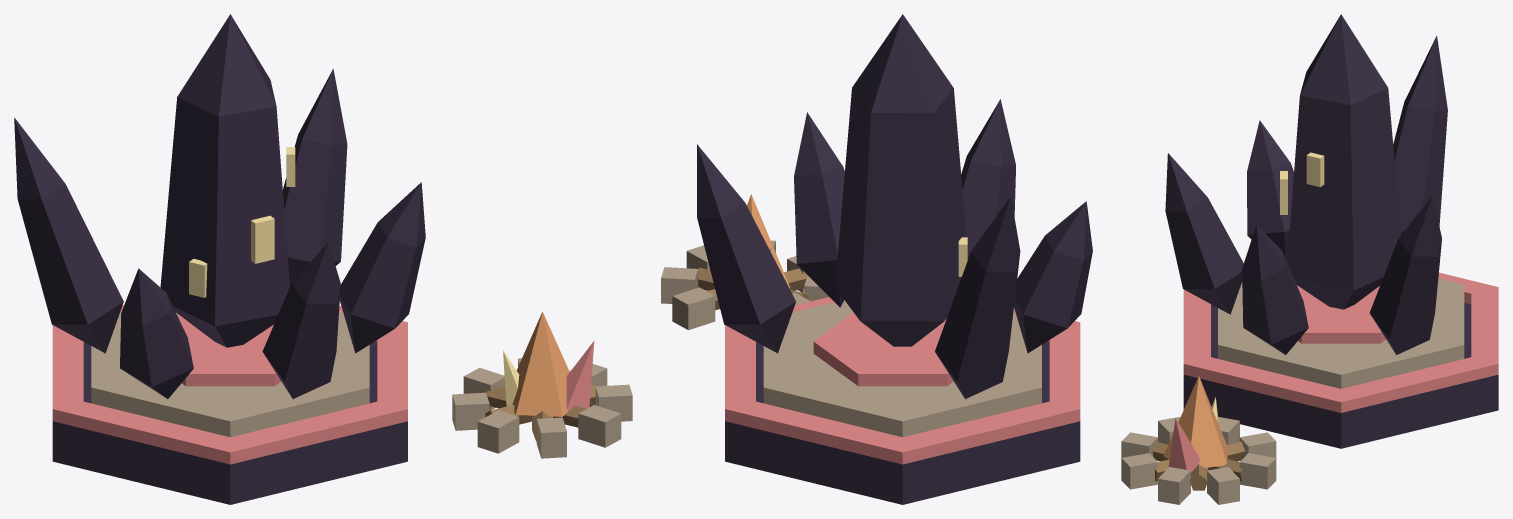
The model's file is volcanic-landmark-s2b.glb.
3 renders of one model, left to right at view 1: azimuth 30°, elevation 25°; view 2: azimuth 150°, elevation 25°; view 3: azimuth 270°, elevation 25°, orthographic. The views are drawn at different scales.
Visible parts, largest first — view 1: volcanic-landmark-s2b; view 2: volcanic-landmark-s2b; view 3: volcanic-landmark-s2b.
Boxes of the visible parts, <box> form: volcanic-landmark-s2b: <box>14,14,632,504</box>; volcanic-landmark-s2b: <box>661,14,1092,504</box>; volcanic-landmark-s2b: <box>1121,14,1498,504</box>.
Size of the model in its own units: 1.26 by 1 by 0.9546.
